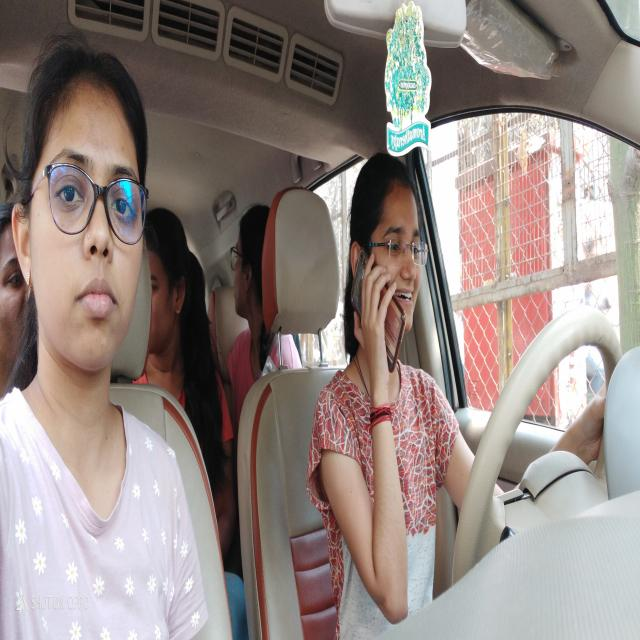mobile: (348, 233, 413, 376)
person: (14, 40, 147, 367), (346, 162, 428, 347), (142, 209, 195, 366), (223, 208, 271, 330), (0, 196, 29, 369)
